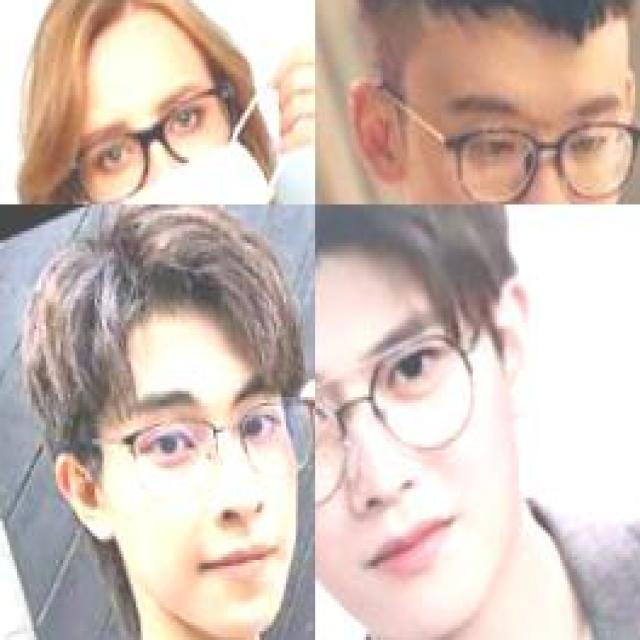Glasses: (361, 0, 640, 201), (68, 350, 313, 560), (315, 320, 521, 539), (44, 83, 255, 201)
